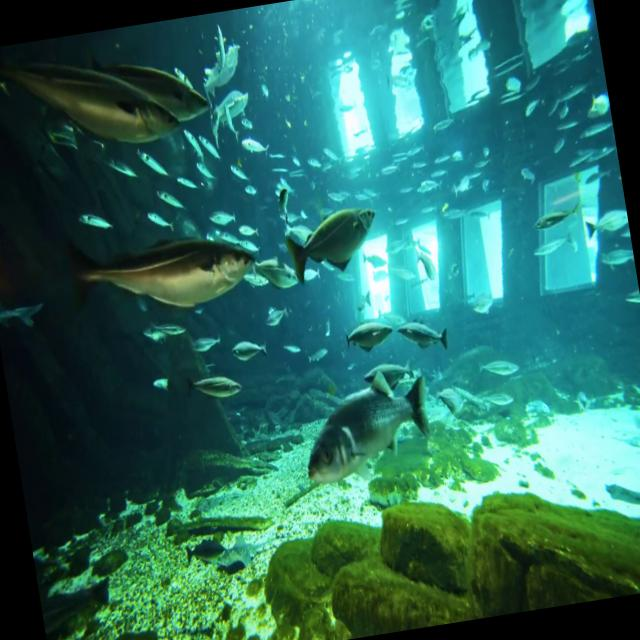fish: (58, 209, 268, 345), (0, 26, 185, 172), (286, 376, 441, 478), (85, 29, 214, 134), (276, 196, 386, 288), (182, 360, 248, 418), (398, 302, 453, 362), (253, 242, 305, 302), (343, 311, 398, 359), (530, 194, 590, 238), (168, 324, 221, 359), (230, 332, 272, 374), (261, 173, 297, 210)
